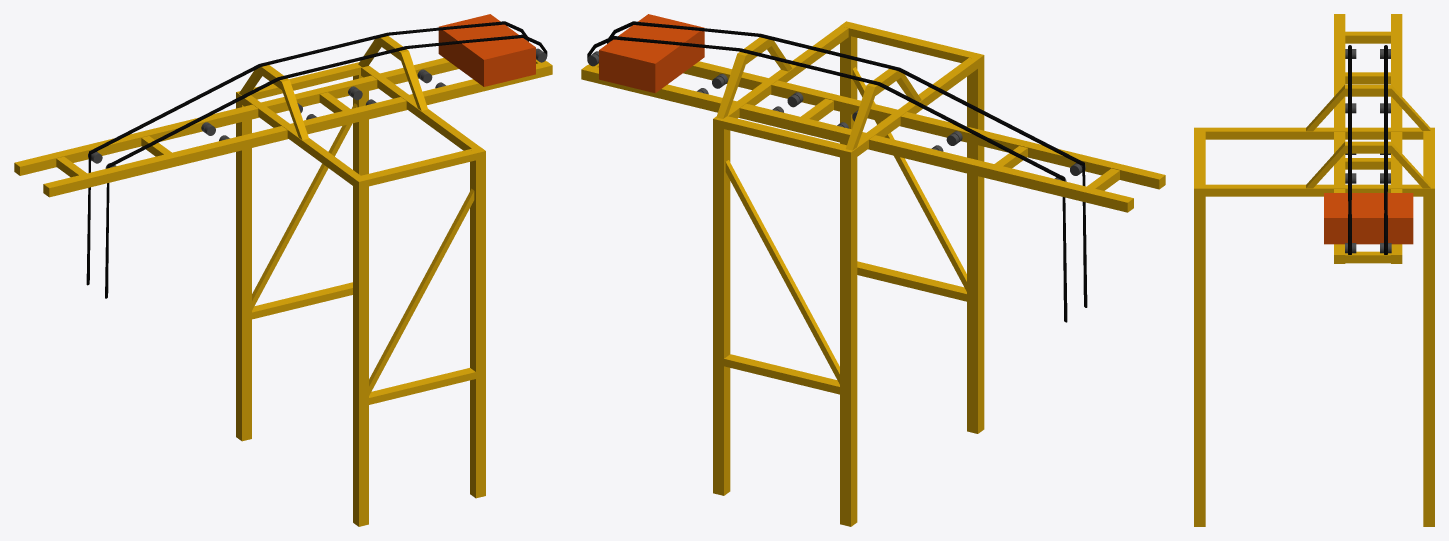
File: crane1.fbx
3 views of the same model, side by side, from view 1: azimuth 30°, elevation 25°; view 2: azimuth 150°, elevation 25°; view 3: azimuth 270°, elevation 25° (orthographic). The views are drawn at different scales.
Parts seen in each view (by area): view 1: Cube.025; view 2: Cube.025; view 3: Cube.025.
Boxes of the visible parts, bbox=[...] form: Cube.025: bbox=[14, 14, 552, 526]; Cube.025: bbox=[581, 14, 1165, 526]; Cube.025: bbox=[1194, 14, 1434, 526].
Size of the model in its own units: 3171 by 2345 by 1332.
